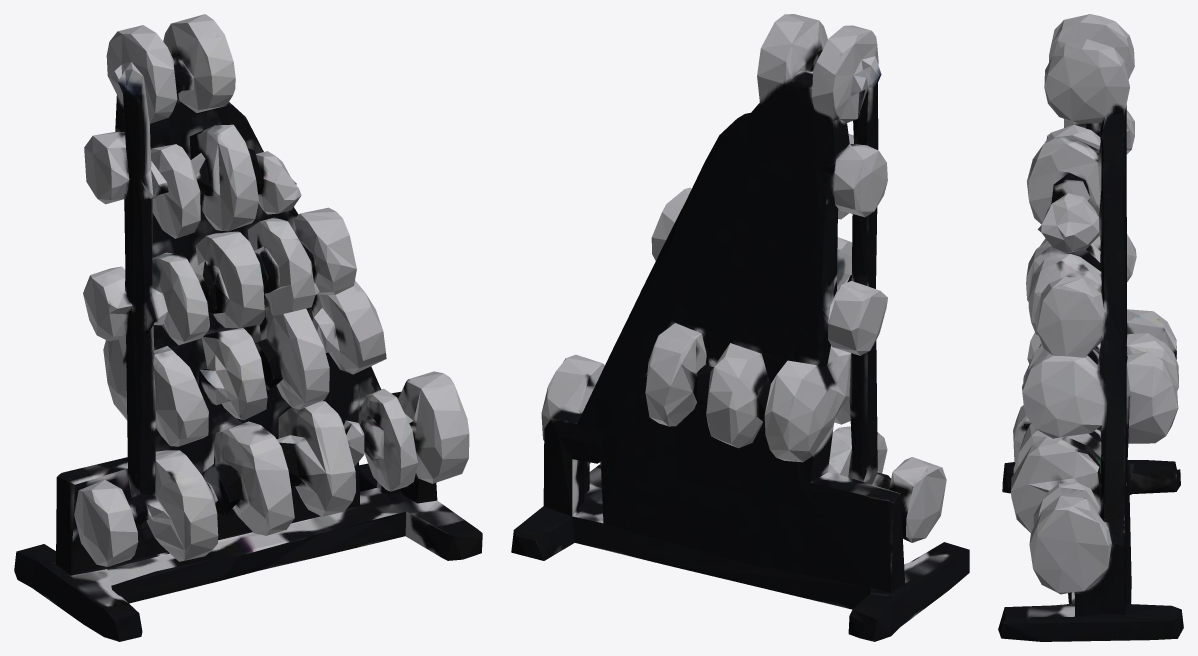
Rendered from dumbbell_rack.glb.
3 renders of one model, left to right at view 1: azimuth 30°, elevation 25°; view 2: azimuth 150°, elevation 25°; view 3: azimuth 270°, elevation 25°, orthographic. The views are drawn at different scales.
Parts seen in each view (by area): view 1: textured_mesh.obj; view 2: textured_mesh.obj; view 3: textured_mesh.obj.
Part boxes in pixels (x1,y1,x2,y2): textured_mesh.obj: [14, 14, 482, 641]; textured_mesh.obj: [511, 14, 969, 641]; textured_mesh.obj: [998, 14, 1183, 641].
Bounding box in the file's own units: 0.7191 × 1 × 0.3391.
Materials: 1 (1 with a texture image).
